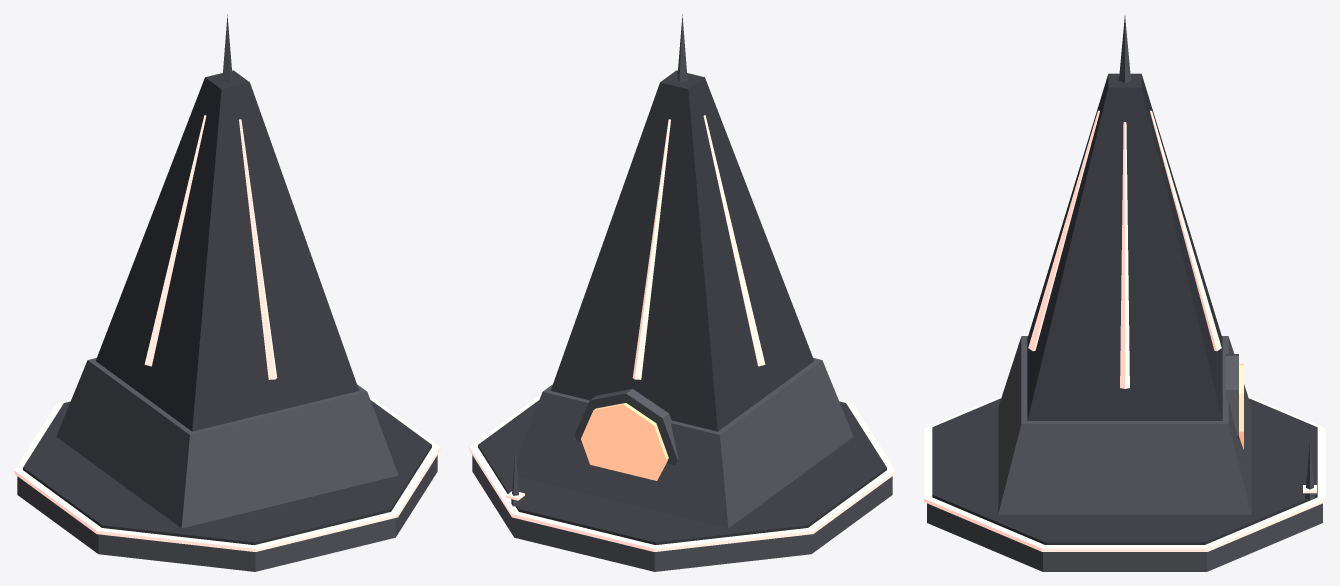
File: zone_high_6_t1.glb
3 views of the same model, side by side, from view 1: azimuth 30°, elevation 25°; view 2: azimuth 150°, elevation 25°; view 3: azimuth 270°, elevation 25° (orthographic).
Parts seen in each view (by area): view 1: zone_high_6_t1; view 2: zone_high_6_t1; view 3: zone_high_6_t1.
Boxes of the visible parts, bbox=[...] form: zone_high_6_t1: bbox=[14, 14, 440, 571]; zone_high_6_t1: bbox=[469, 14, 895, 571]; zone_high_6_t1: bbox=[924, 16, 1325, 571].
Bounding box in the file's own units: 27.35 × 35.64 × 27.35.
